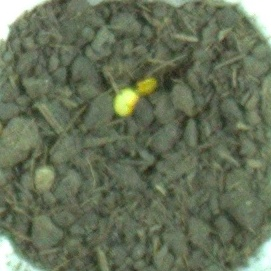chilli seed: (110, 87, 139, 116), (132, 73, 159, 99)
